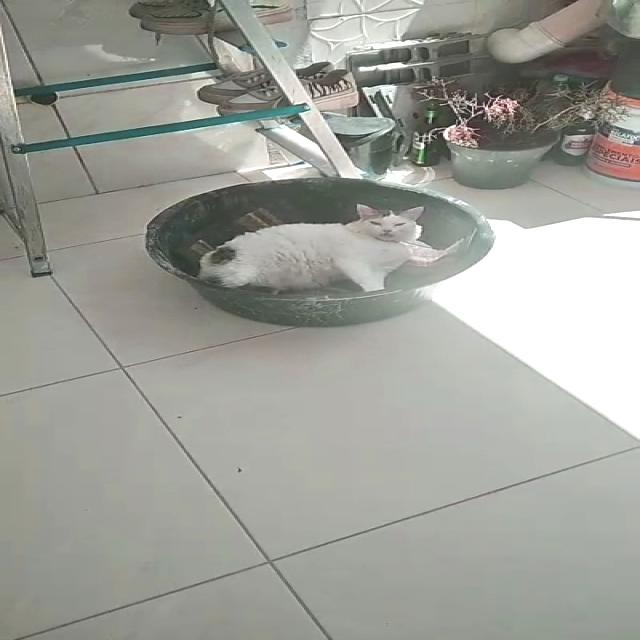Simba: (187, 198, 489, 296)
